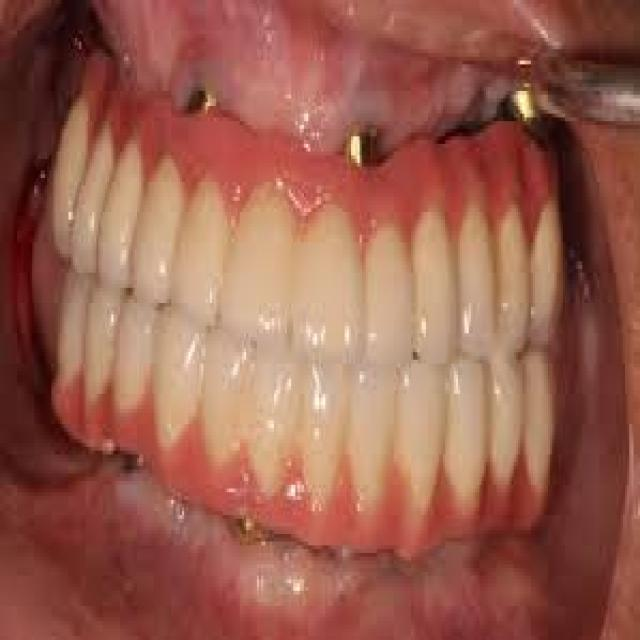tooth: (293, 186, 366, 360), (227, 159, 293, 345), (364, 208, 413, 379), (413, 205, 462, 371), (244, 341, 302, 481), (152, 303, 205, 454), (139, 129, 182, 314), (347, 348, 398, 500), (184, 152, 227, 326), (456, 193, 499, 367), (447, 344, 488, 508), (51, 87, 88, 261), (79, 273, 120, 428), (531, 190, 571, 348), (302, 348, 347, 488), (492, 197, 531, 356), (114, 280, 156, 424), (206, 322, 246, 473), (402, 360, 443, 507), (81, 125, 118, 280), (112, 133, 146, 299), (490, 348, 527, 500), (524, 356, 563, 492), (56, 250, 88, 382)
